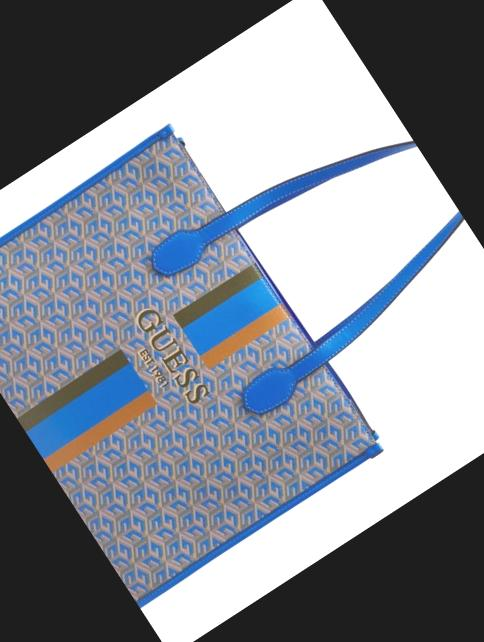GUESS: (133, 306, 211, 408)
